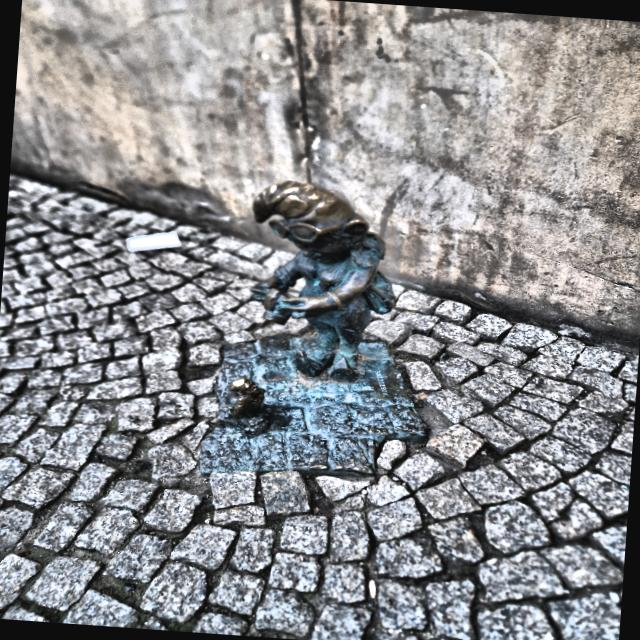Troszka i Adoratorek: (203, 183, 424, 477)
